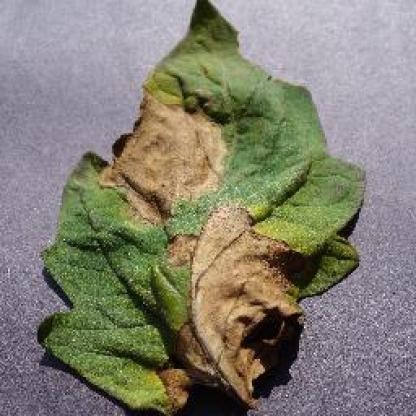bad leaf: (52, 136, 329, 409), (69, 6, 363, 216), (71, 216, 370, 409), (81, 94, 340, 266), (45, 114, 299, 271)
